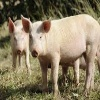heo: (20, 13, 49, 58), (5, 16, 29, 55)
